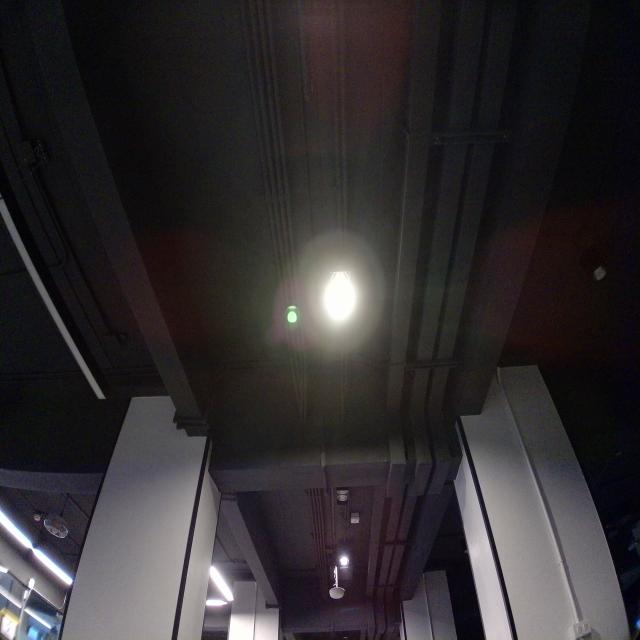lamp1_on: (318, 264, 366, 336)
